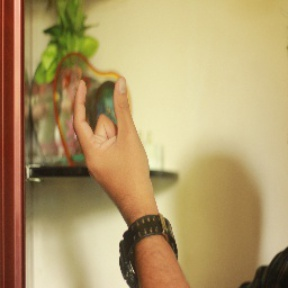U: (69, 72, 157, 192)
